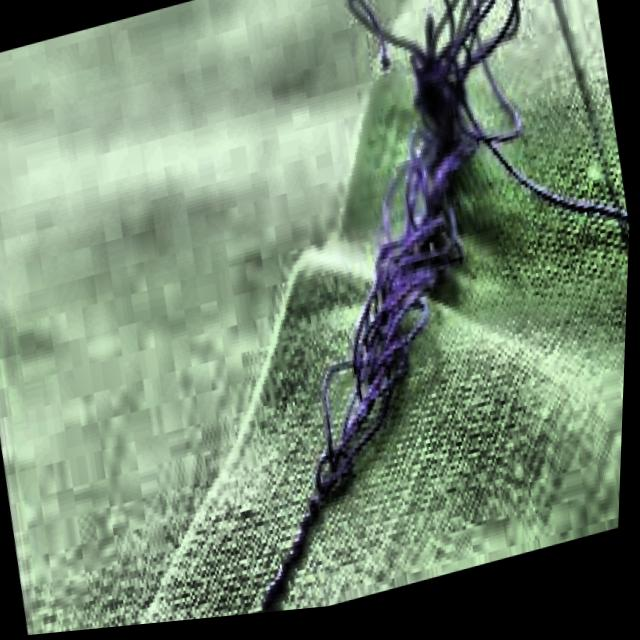Stitch: (213, 0, 640, 518)
